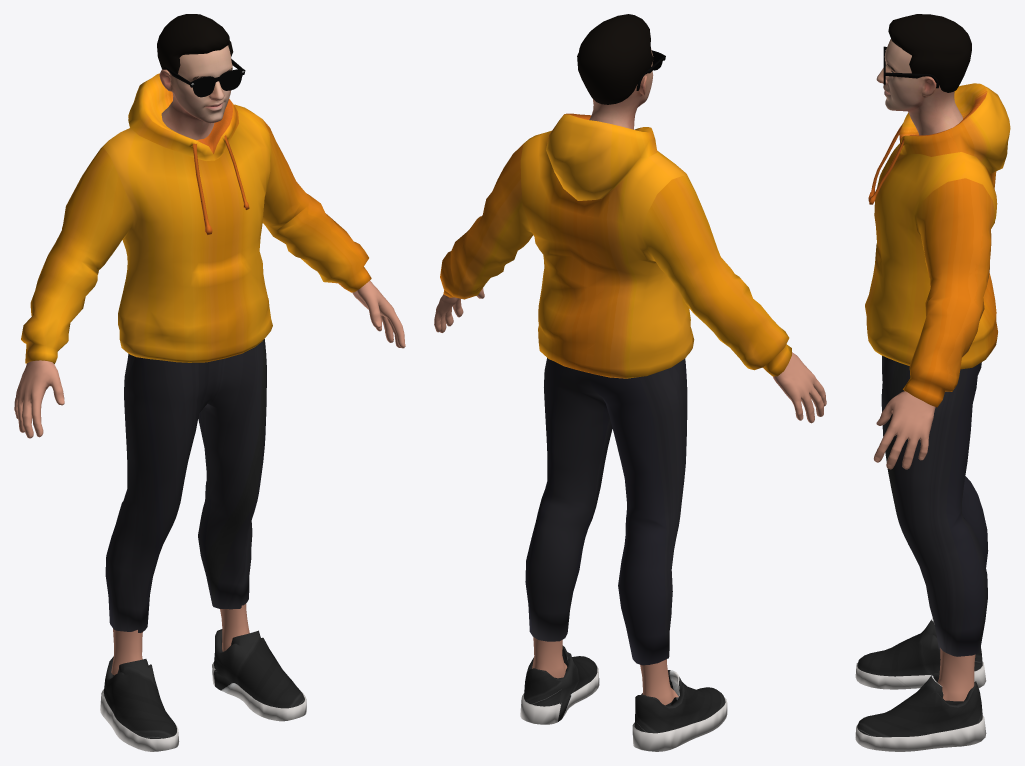
Rendered from abizer.fbx.
3 views of the same model, side by side, from view 1: azimuth 30°, elevation 25°; view 2: azimuth 150°, elevation 25°; view 3: azimuth 270°, elevation 25° (orthographic).
Visible parts, largest first — view 1: Wolf3D_Outfit_Top, Wolf3D_Outfit_Bottom, Wolf3D_Outfit_Footwear, Wolf3D_Body, Wolf3D_Head, Wolf3D_Hair, Wolf3D_Glasses; view 2: Wolf3D_Outfit_Top, Wolf3D_Outfit_Bottom, Wolf3D_Outfit_Footwear, Wolf3D_Hair, Wolf3D_Body, Wolf3D_Head; view 3: Wolf3D_Outfit_Top, Wolf3D_Outfit_Bottom, Wolf3D_Outfit_Footwear, Wolf3D_Body, Wolf3D_Hair, Wolf3D_Head, Wolf3D_Glasses.
Part boxes in pixels (left/top/right/bottom): Wolf3D_Outfit_Top: left=21, top=73, right=371, bottom=364; Wolf3D_Outfit_Bottom: left=105, top=339, right=266, bottom=632; Wolf3D_Outfit_Footwear: left=100, top=629, right=306, bottom=751; Wolf3D_Body: left=14, top=281, right=405, bottom=675; Wolf3D_Head: left=159, top=45, right=232, bottom=140; Wolf3D_Hair: left=157, top=14, right=233, bottom=73; Wolf3D_Glasses: left=163, top=59, right=245, bottom=97; Wolf3D_Outfit_Top: left=440, top=113, right=791, bottom=378; Wolf3D_Outfit_Bottom: left=525, top=358, right=687, bottom=665; Wolf3D_Outfit_Footwear: left=520, top=645, right=727, bottom=751; Wolf3D_Hair: left=577, top=14, right=653, bottom=104; Wolf3D_Body: left=434, top=288, right=826, bottom=705; Wolf3D_Head: left=589, top=48, right=653, bottom=129; Wolf3D_Outfit_Top: left=865, top=83, right=1010, bottom=407; Wolf3D_Outfit_Bottom: left=881, top=355, right=988, bottom=656; Wolf3D_Outfit_Footwear: left=855, top=618, right=986, bottom=751; Wolf3D_Body: left=873, top=391, right=975, bottom=701; Wolf3D_Hair: left=888, top=14, right=971, bottom=92; Wolf3D_Head: left=876, top=39, right=962, bottom=135; Wolf3D_Glasses: left=883, top=46, right=939, bottom=88.
Bounding box in the file's own units: 1.06 × 1.86 × 0.376.
Materials: 9 (9 with a texture image).
